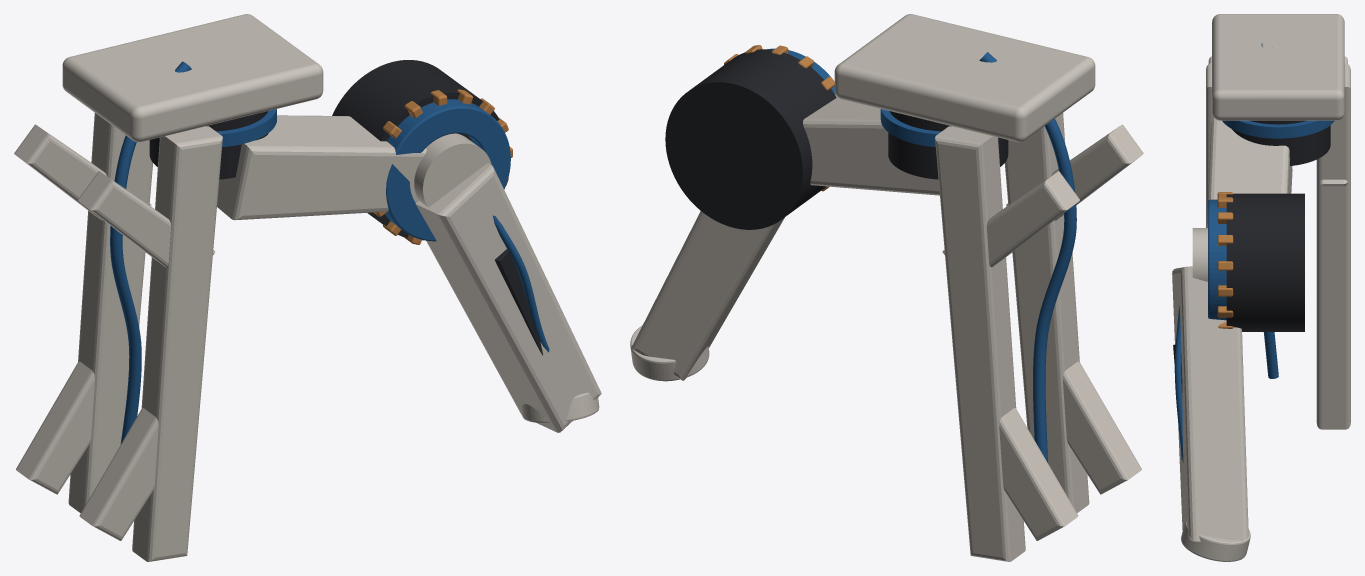
Rendered from anatomy-06.glb.
The picture shows the model from 3 angles, left to right: view 1: azimuth 30°, elevation 25°; view 2: azimuth 150°, elevation 25°; view 3: azimuth 270°, elevation 25°; orthographic projection. The views are drawn at different scales.
Visible parts, largest first — view 1: ribs, neck, arm, bracket, bearing, motor, wires, yaw, windings, arm-ring; view 2: ribs, motor, neck, arm, bracket, wires, yaw, arm-ring; view 3: arm, neck, ribs, motor, bracket, yaw, bearing, arm-ring, wires, windings.
Boxes of the visible parts, x1=… form: ribs: x1=14, y1=113, x2=222, y2=561; neck: x1=62, y1=14, x2=323, y2=142; arm: x1=415, y1=163, x2=601, y2=432; bracket: x1=217, y1=115, x2=426, y2=220; bearing: x1=385, y1=99, x2=510, y2=241; motor: x1=332, y1=60, x2=499, y2=240; wires: x1=110, y1=61, x2=549, y2=444; yaw: x1=149, y1=109, x2=276, y2=179; windings: x1=373, y1=89, x2=512, y2=244; arm-ring: x1=521, y1=392, x2=599, y2=423; ribs: x1=935, y1=113, x2=1143, y2=561; motor: x1=665, y1=49, x2=836, y2=229; neck: x1=834, y1=14, x2=1095, y2=142; arm: x1=631, y1=211, x2=784, y2=380; bracket: x1=803, y1=94, x2=939, y2=195; wires: x1=979, y1=52, x2=1076, y2=462; yaw: x1=880, y1=109, x2=1008, y2=179; arm-ring: x1=630, y1=325, x2=709, y2=381; arm: x1=1172, y1=266, x2=1248, y2=541; neck: x1=1212, y1=14, x2=1344, y2=120; ribs: x1=1206, y1=56, x2=1350, y2=429; motor: x1=1226, y1=193, x2=1304, y2=331; bracket: x1=1207, y1=118, x2=1292, y2=227; yaw: x1=1222, y1=120, x2=1334, y2=165; bearing: x1=1192, y1=199, x2=1226, y2=320; arm-ring: x1=1181, y1=521, x2=1250, y2=561; wires: x1=1174, y1=43, x2=1278, y2=462; windings: x1=1217, y1=192, x2=1233, y2=328.
Size of the model in its own units: 2.11 by 1.84 by 0.7416.
